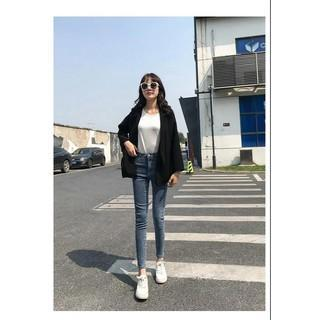pants: (130, 149, 169, 268)
